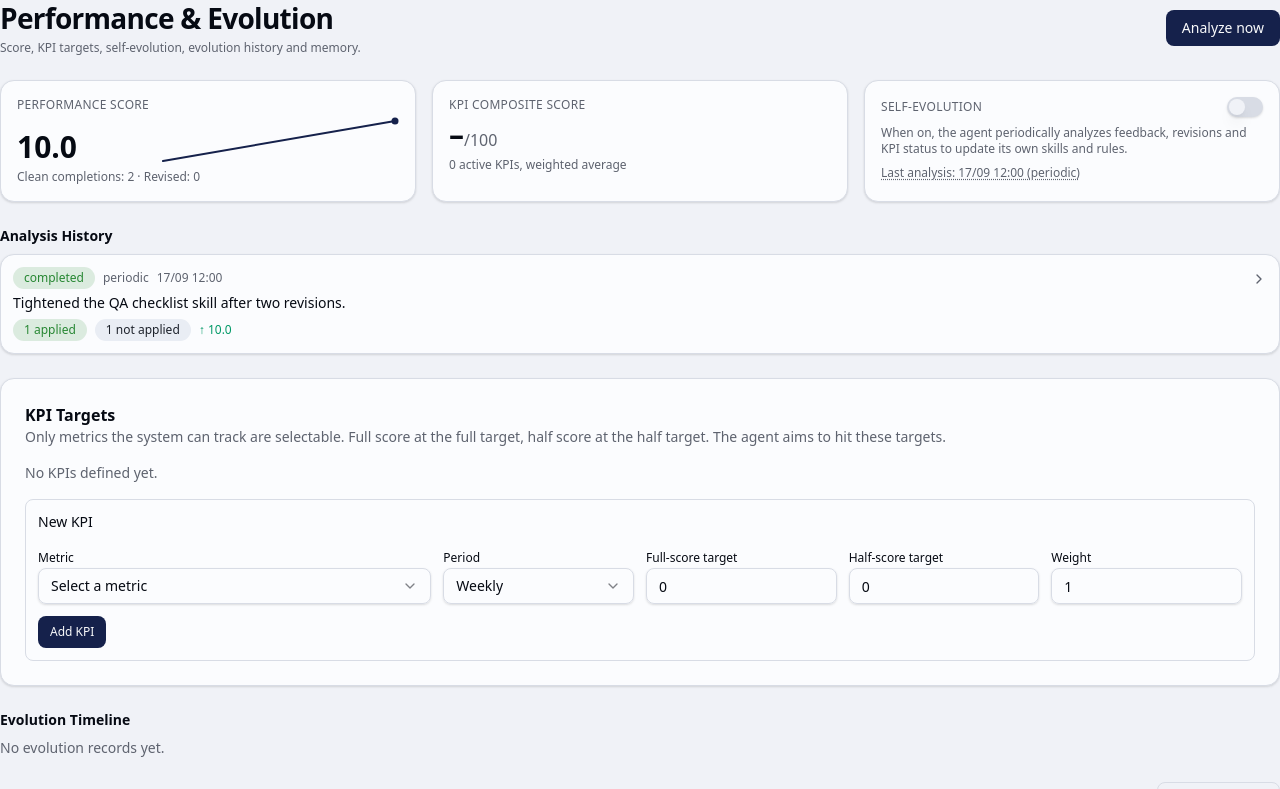
it: AgentPerformancePage reflection history › opens the detail dialog and shows applied/not-applied changes and the before/after table
The width and height of the screenshot is (1280, 789).
Step 1. Click the text "Tightened the QA checklist skill after two revisions." → (179, 302), box [13,293,346,312]
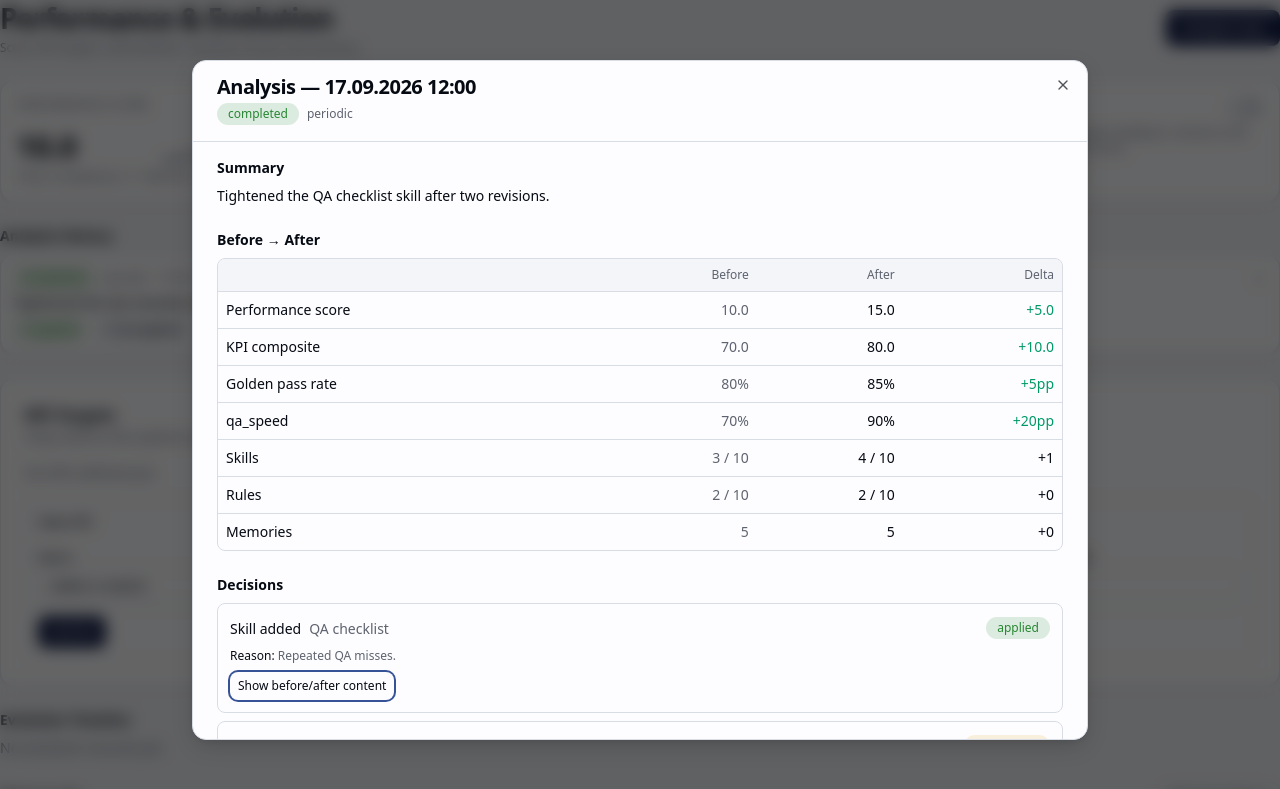
Expected: the text "QA checklist" is shown, [309,619,389,638]
Expected: the text "applied" is shown, [986,617,1050,639]
Expected: the text "Performance score" is shown, [218,292,608,328]
